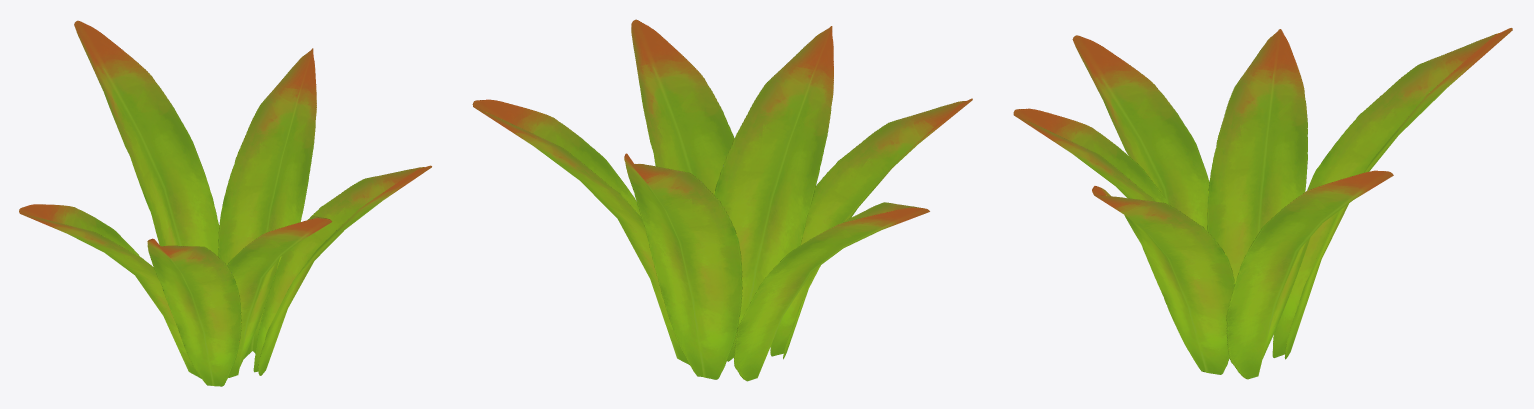
File: plant_1.gltf
3 views of the same model, side by side, from view 1: azimuth 30°, elevation 25°; view 2: azimuth 150°, elevation 25°; view 3: azimuth 270°, elevation 25° (orthographic). The views are drawn at different scales.
Visible parts, largest first — view 1: plant_1; view 2: plant_1; view 3: plant_1.
Part boxes in pixels (x1,y1,x2,y2): plant_1: [19, 20, 431, 386]; plant_1: [472, 19, 972, 381]; plant_1: [1013, 28, 1512, 379].
Bounding box in the file's own units: 1.27 × 1.01 × 1.39.
1 material, 1 textured.
